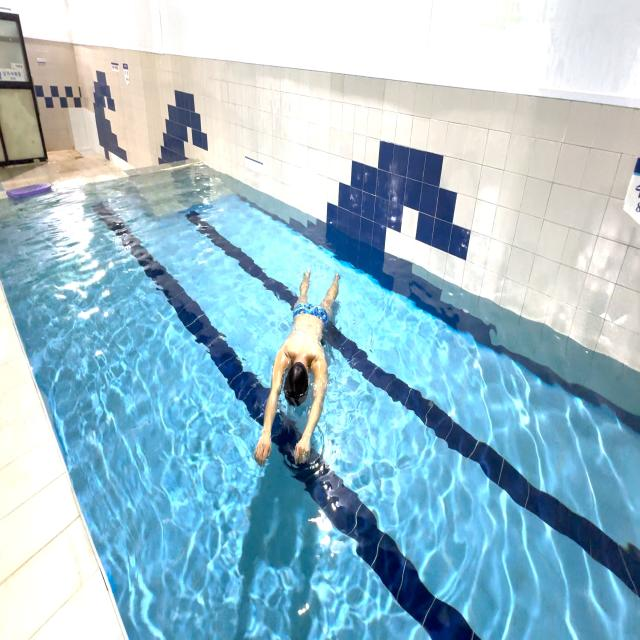Swimming: (249, 250, 349, 488)
